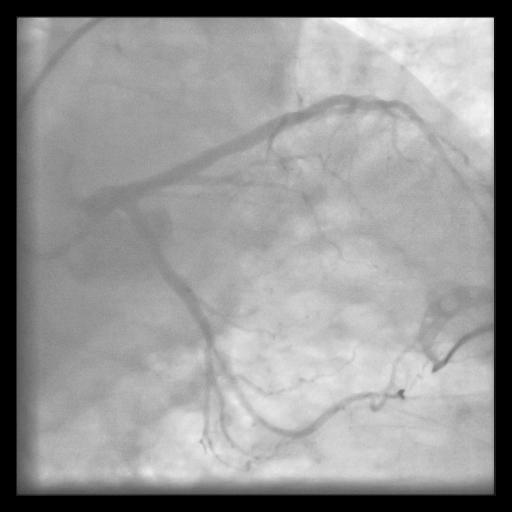Stenosis: (208, 343, 237, 384)
